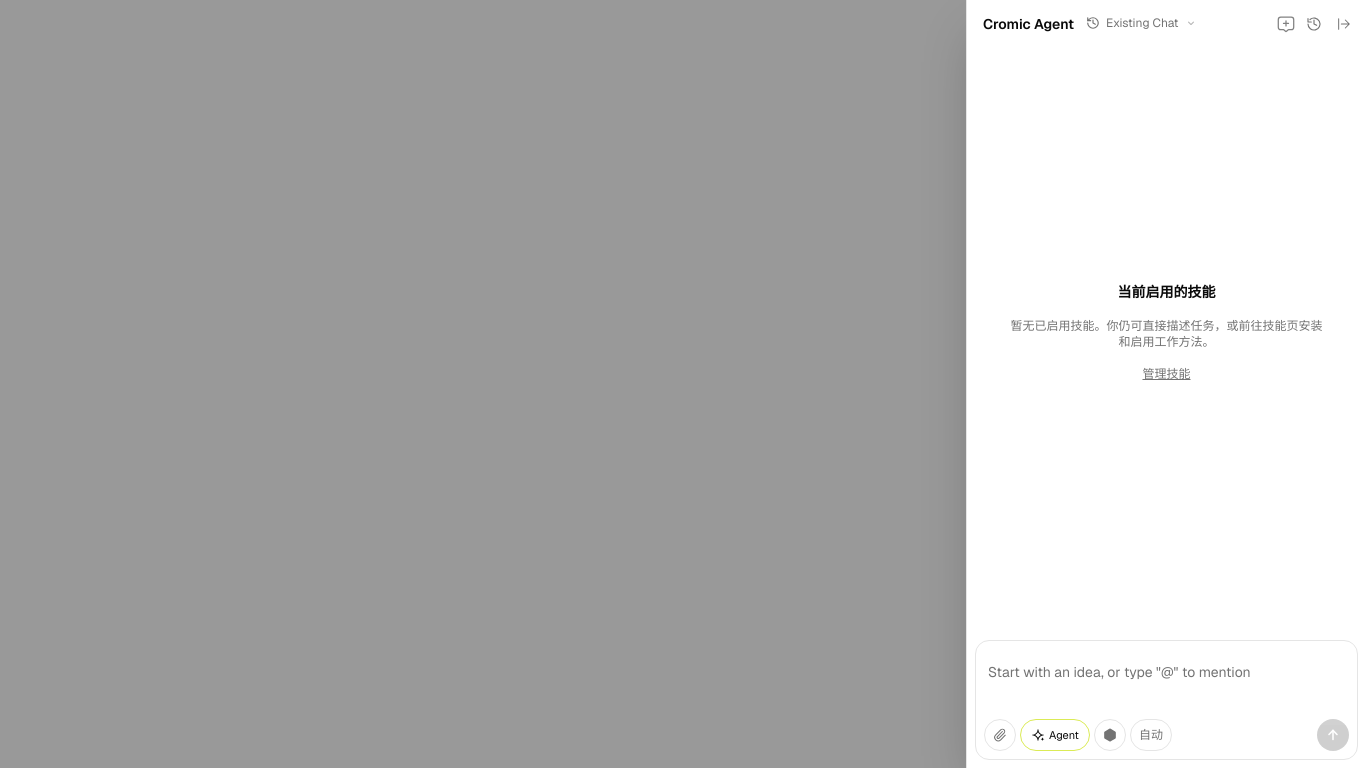
Test: ChatSidebar › stops an acknowledged run and restores the send button on cancellation
This screenshot has width=1366, height=768.
Type "generate" into the text box with placeholder "Start with an idea, or type \"@\" to mention" at [1166, 684], box [984, 660, 1349, 708]
Then press Enter
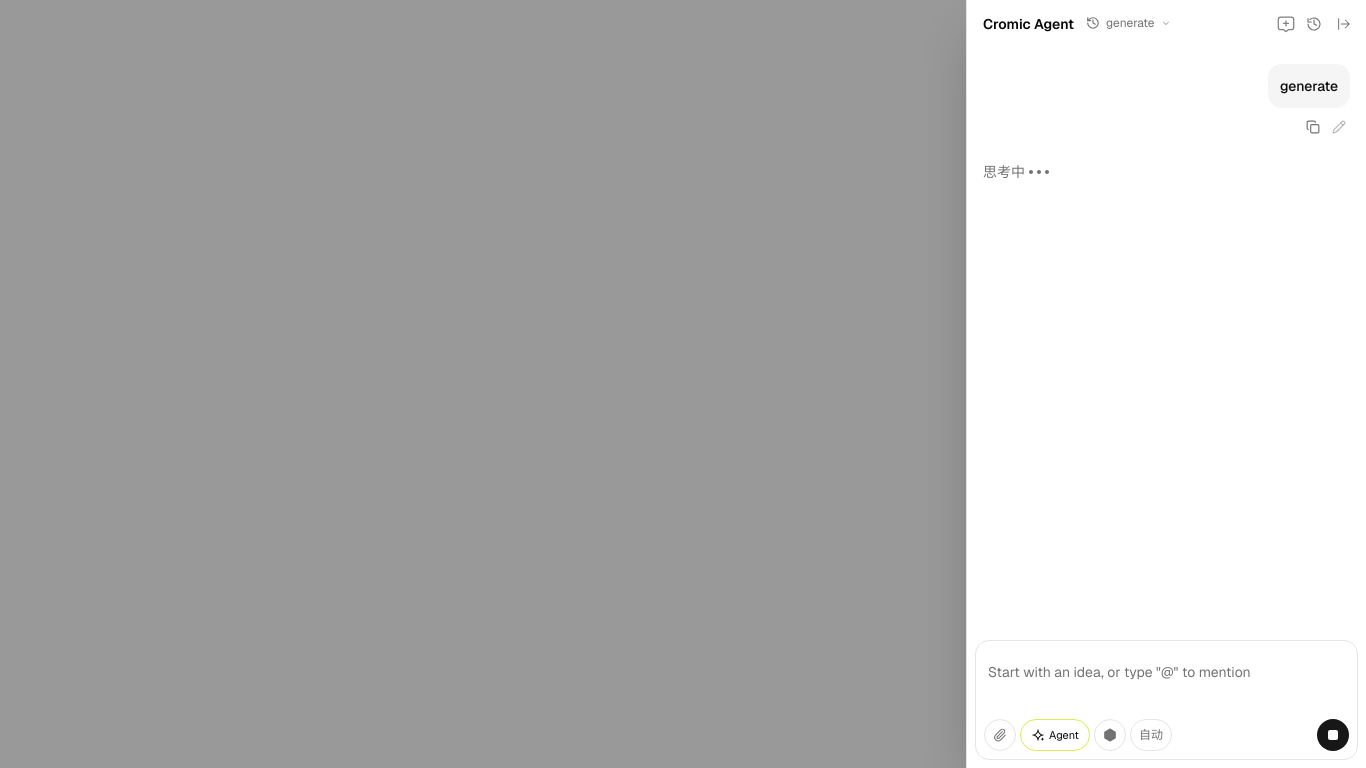
Click the button named "停止生成" at [1333, 735], box [1317, 719, 1349, 751]
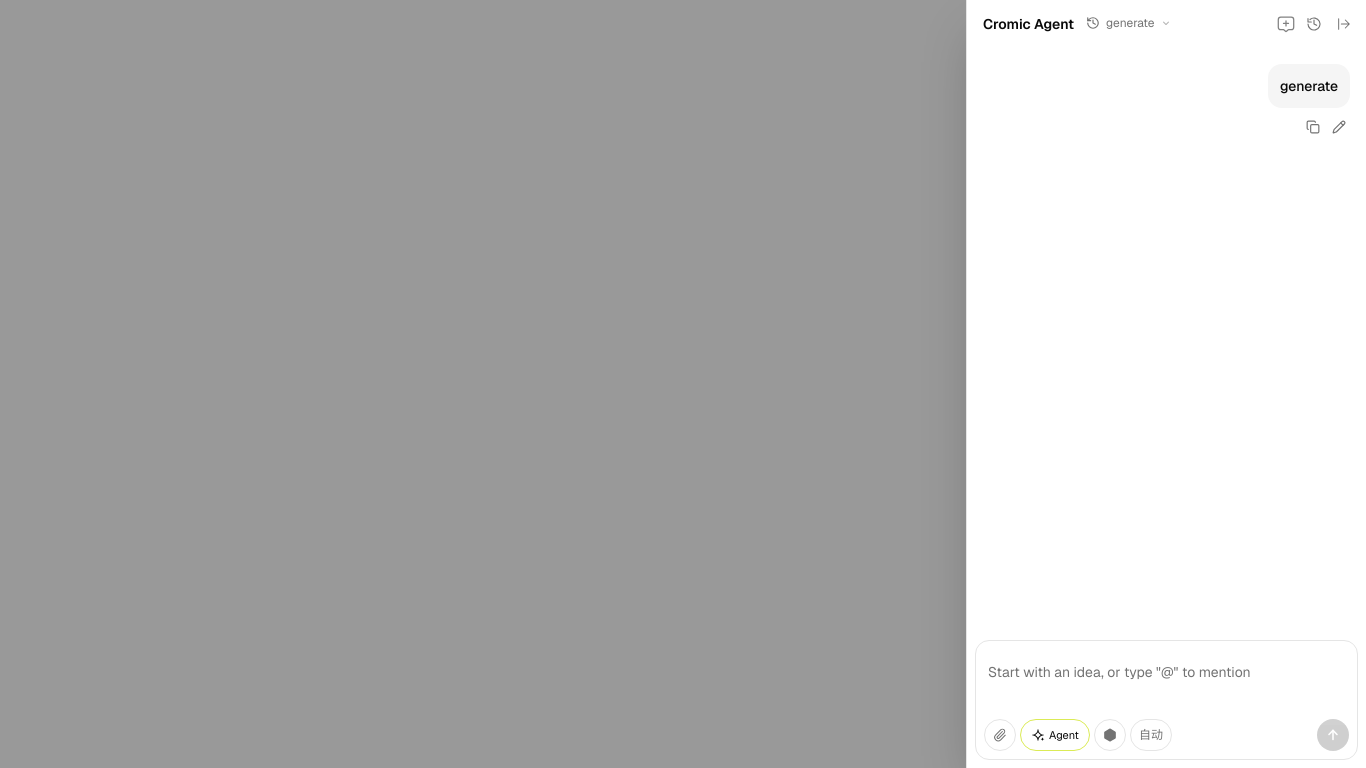
Check: the button named "发送消息" is shown, box [1317, 719, 1349, 751]
